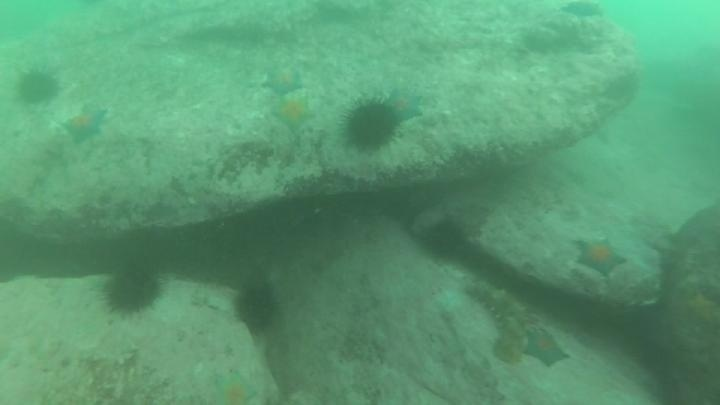echinus: (99, 259, 166, 319), (340, 95, 402, 154), (231, 279, 281, 336), (420, 217, 469, 262), (14, 66, 62, 108)
holothurian: (467, 279, 531, 323), (494, 316, 531, 369)
starfish: (572, 235, 628, 279), (520, 326, 572, 370), (60, 102, 110, 146), (210, 367, 261, 405), (271, 93, 316, 134), (382, 85, 426, 124), (261, 63, 306, 97), (430, 284, 469, 322), (559, 1, 605, 21)
